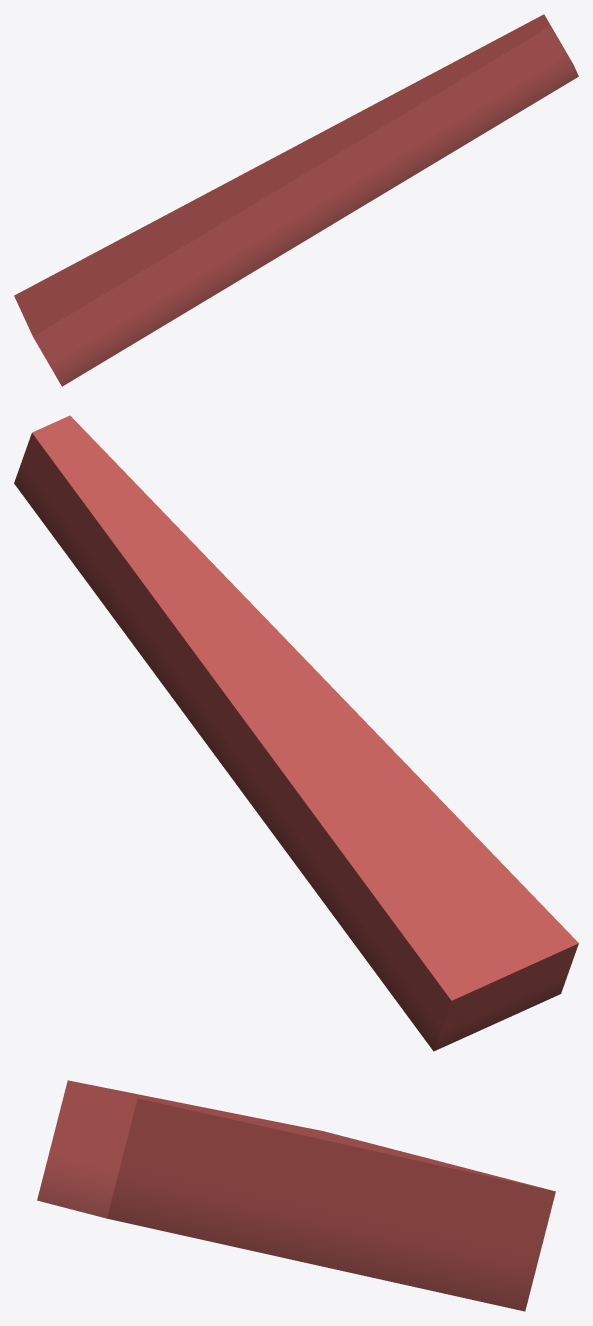
Rendered from PlatTri01.024.glb.
3 renders of one model, top to bottom at view 1: azimuth 30°, elevation 25°; view 2: azimuth 150°, elevation 25°; view 3: azimuth 270°, elevation 25°, orthographic. The views are drawn at different scales.
Visible parts, largest first — view 1: PlatTri01.024; view 2: PlatTri01.024; view 3: PlatTri01.024.
Boxes of the visible parts, <box> form: PlatTri01.024: <box>14,14,578,386</box>; PlatTri01.024: <box>14,415,578,1051</box>; PlatTri01.024: <box>37,1080,555,1311</box>.
Size of what is drawn, in the model's own units: 10.44 by 6.3 by 4.82.
Materials: 1 (1 with a texture image).
